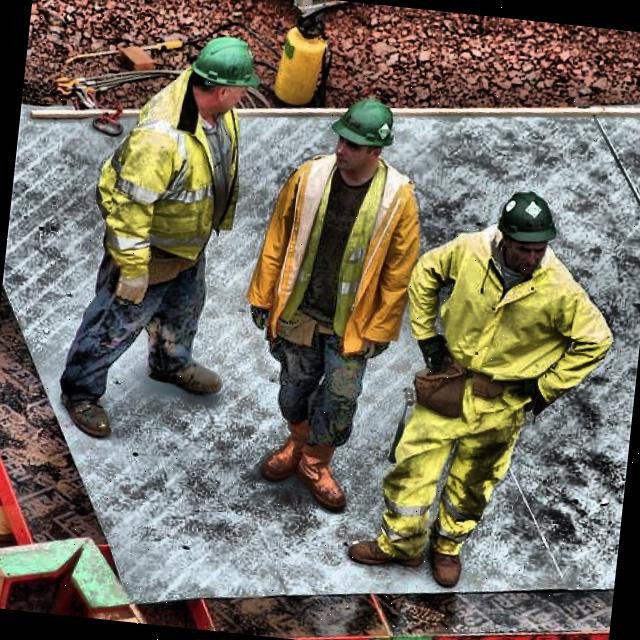helmet: (172, 21, 276, 129), (316, 84, 404, 188), (483, 176, 566, 283)
